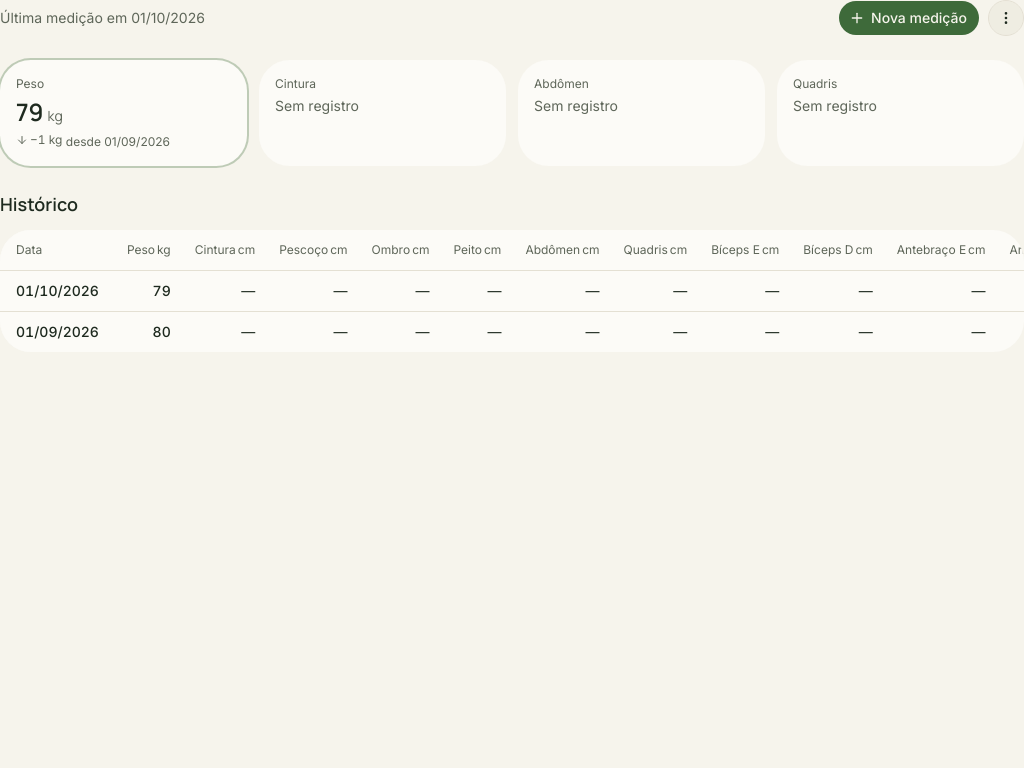
Test case: MeasurementsView — resetar medidas › apaga o histórico depois de confirmar
What coordinates should you click on to do the following:
click the button named "Opções das medidas"
I would click on:
 (1006, 18)
Its box is [988,0,1023,36].
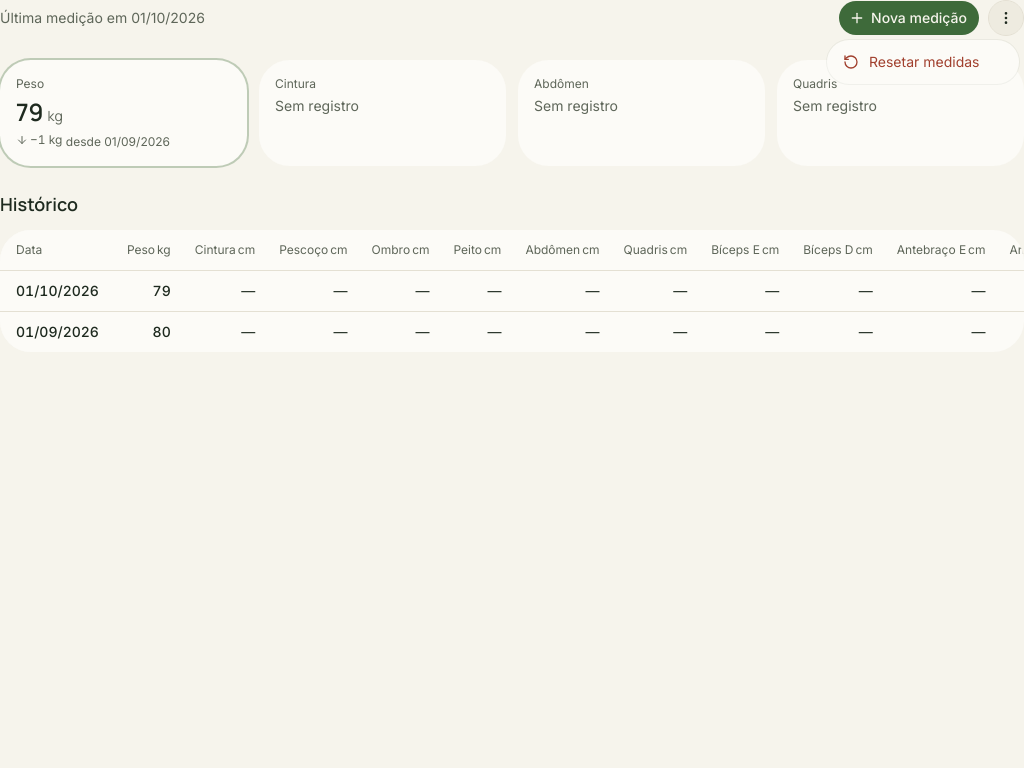
Note: O menu (Base UI) abre num portal, depois de um tick.
What coordinates should you click on to do the following:
click the menu item "Resetar medidas"
I would click on:
 (911, 62)
Its box is [843,53,980,70].
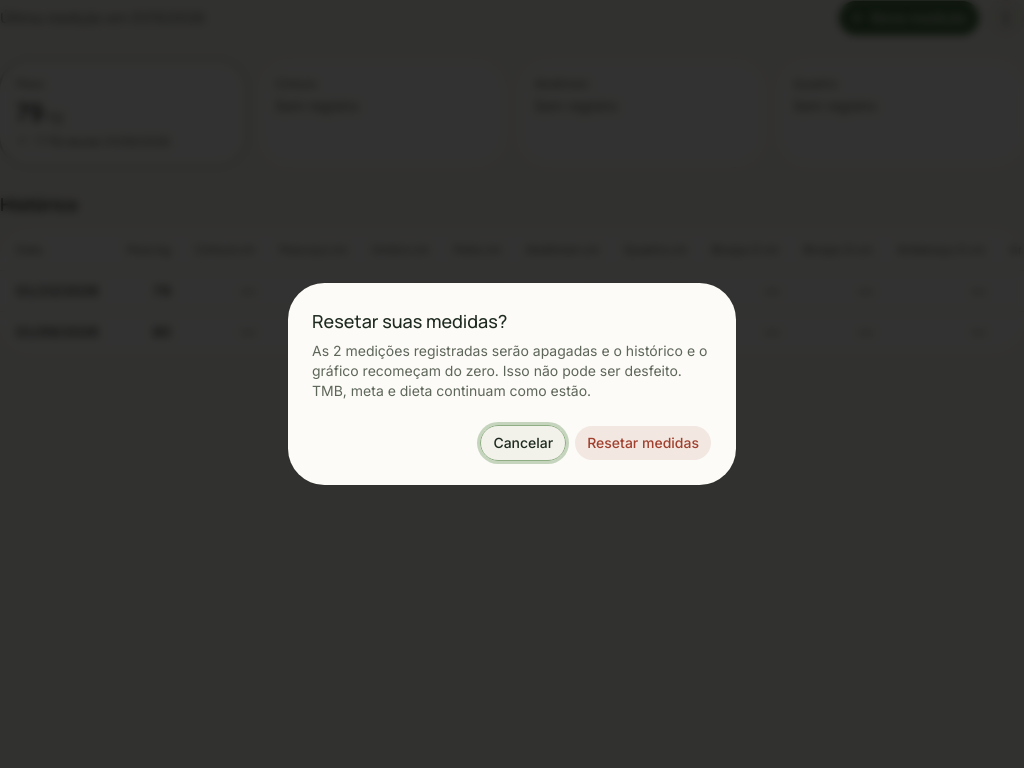
Check: the text "As 2 medições registradas serão apagadas" is shown, box [312,342,598,359]
What coordinates should you click on to do the following:
click the button "Resetar medidas"
I would click on:
 (643, 443)
Its box is [574,425,712,461].
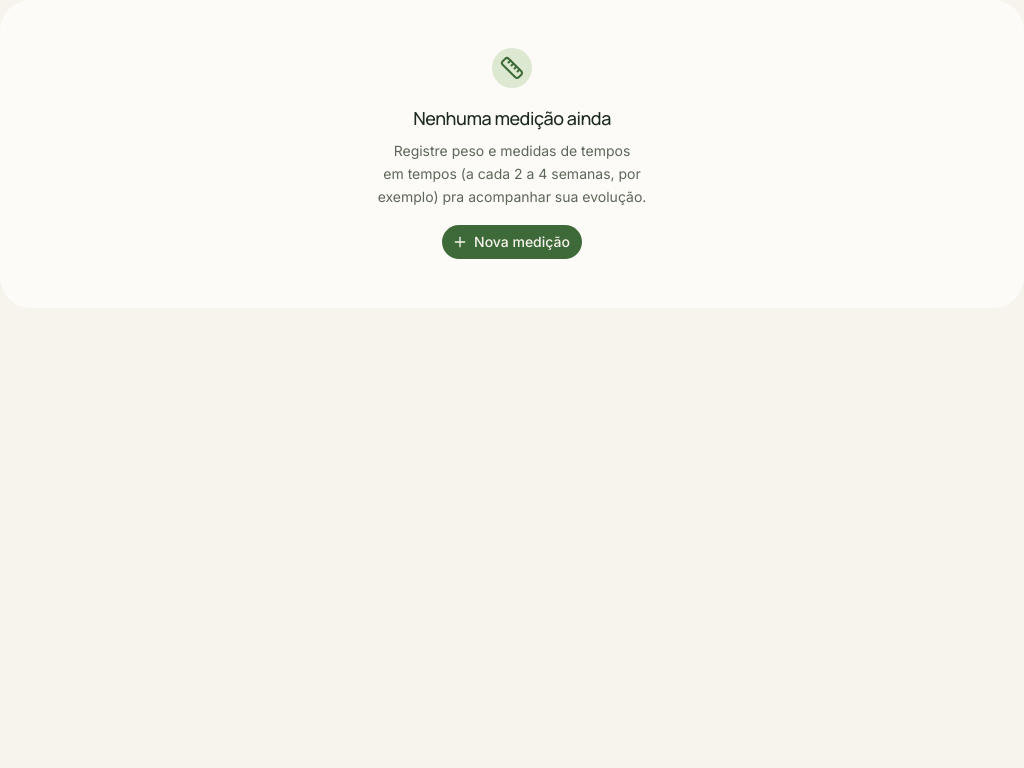
Check: the text "Nenhuma medição ainda" is shown, box [413,104,611,132]
